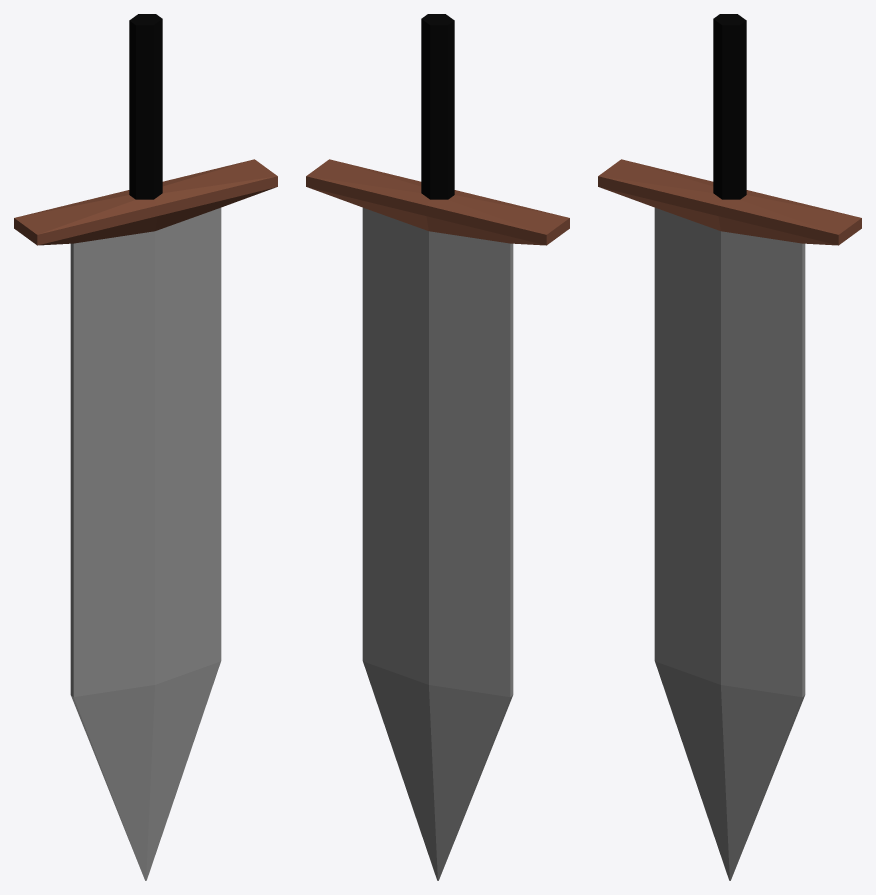
Rendered from sword.fbx.
The picture shows the model from 3 angles, left to right: view 1: azimuth 30°, elevation 25°; view 2: azimuth 150°, elevation 25°; view 3: azimuth 330°, elevation 25°; orthographic projection.
Visible parts, largest first — view 1: sword; view 2: sword; view 3: sword.
Boxes of the visible parts, x1,y1,x2,y2 form: sword: (14, 14, 277, 880); sword: (306, 14, 569, 880); sword: (598, 14, 861, 880).
Bounding box in the file's own units: 180 × 616 × 30.
